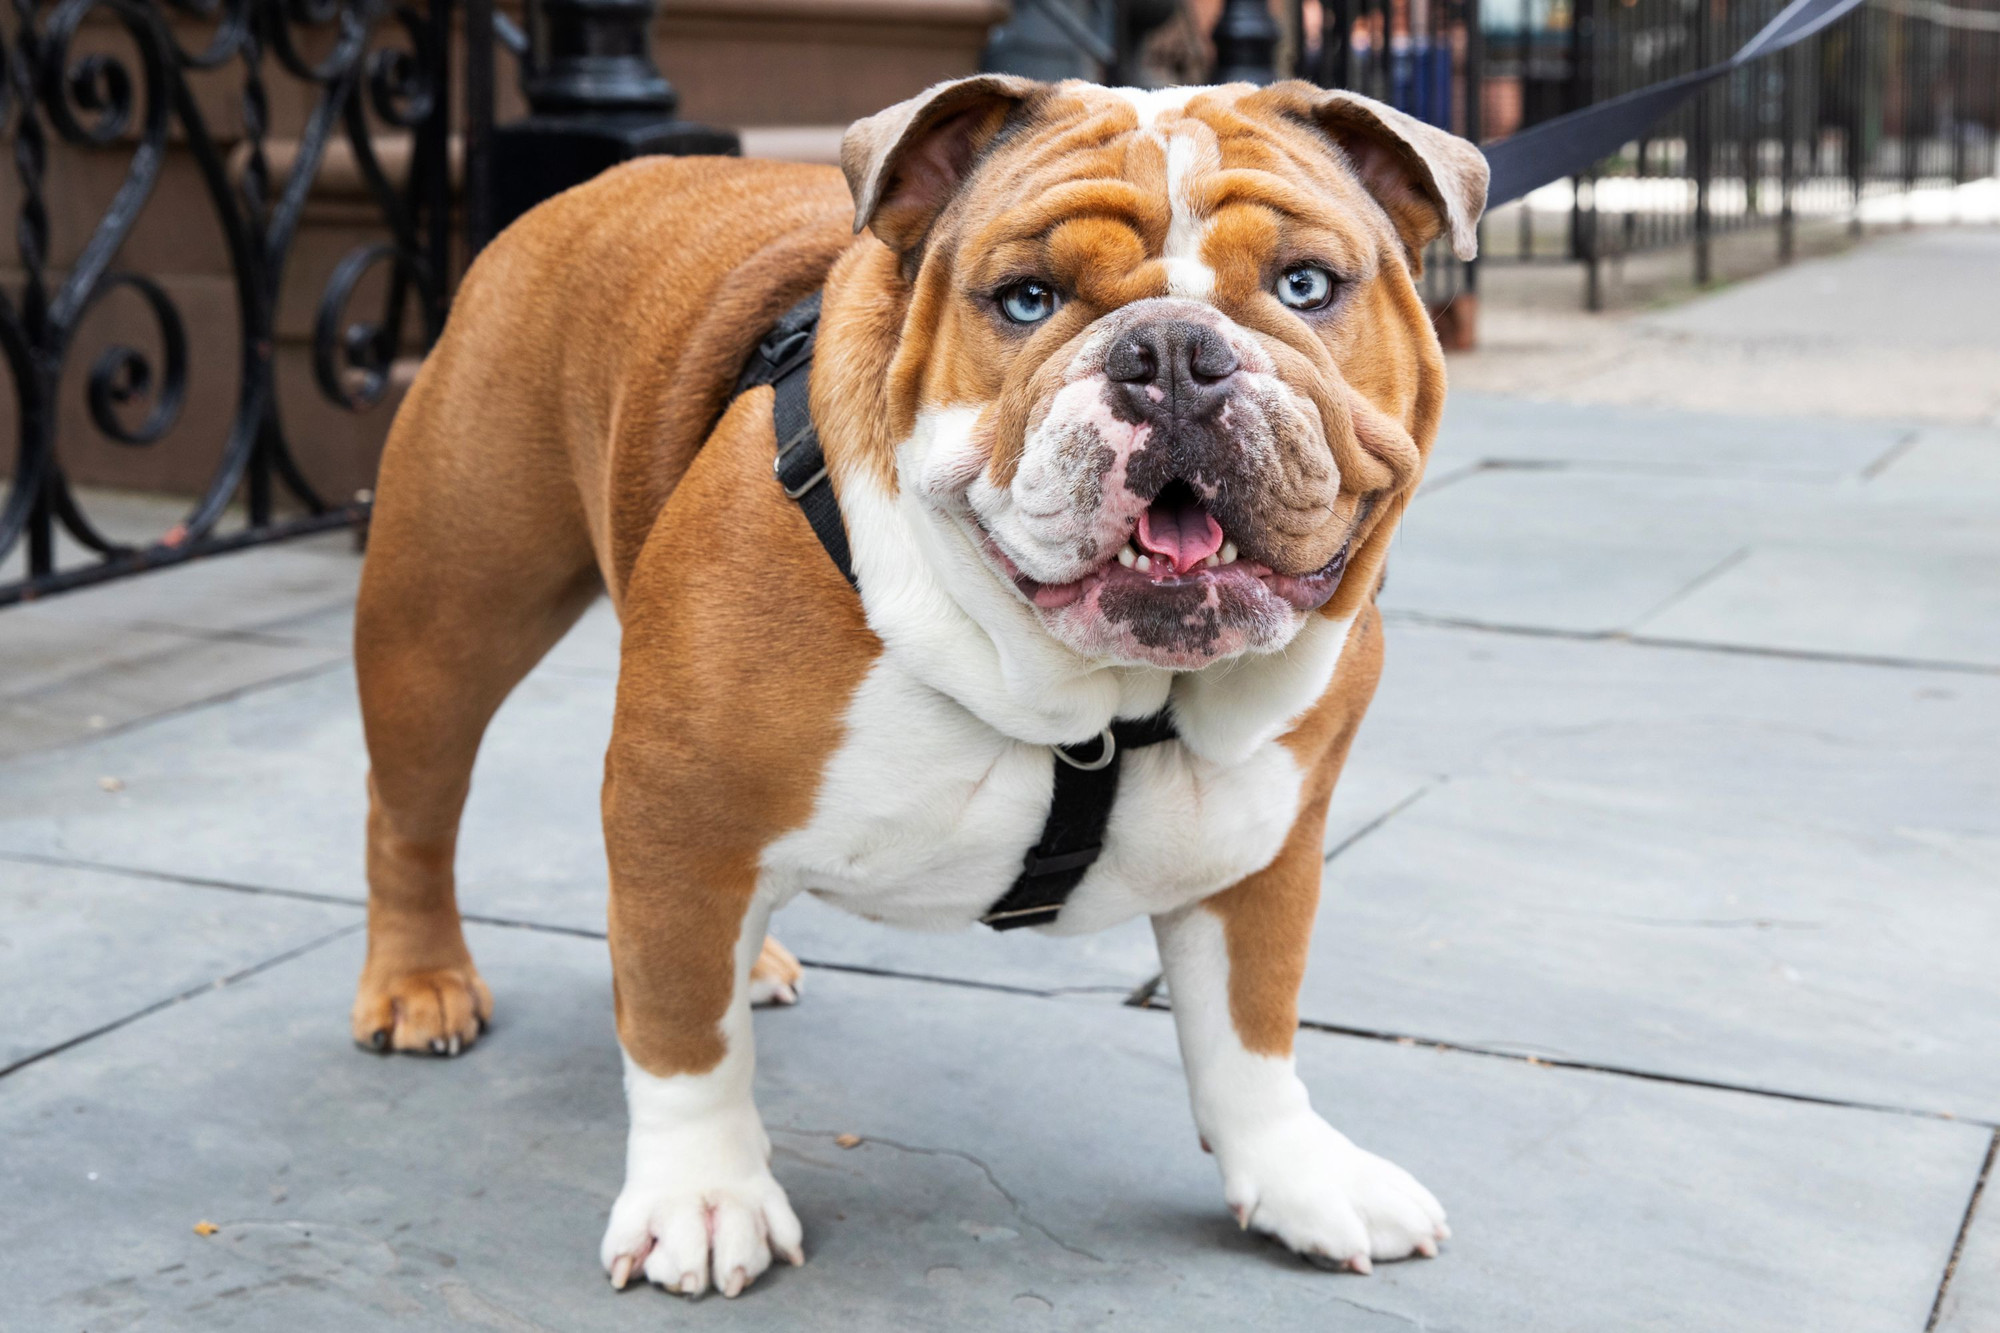dog: (342, 68, 1494, 1305)
